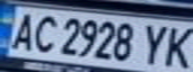2: (93, 17, 121, 61), (54, 14, 81, 57)
8: (112, 19, 142, 64)
9: (75, 16, 100, 60)
A: (3, 9, 42, 52)
C: (27, 11, 60, 54)
K: (157, 22, 193, 70)
Y: (136, 20, 175, 66)
